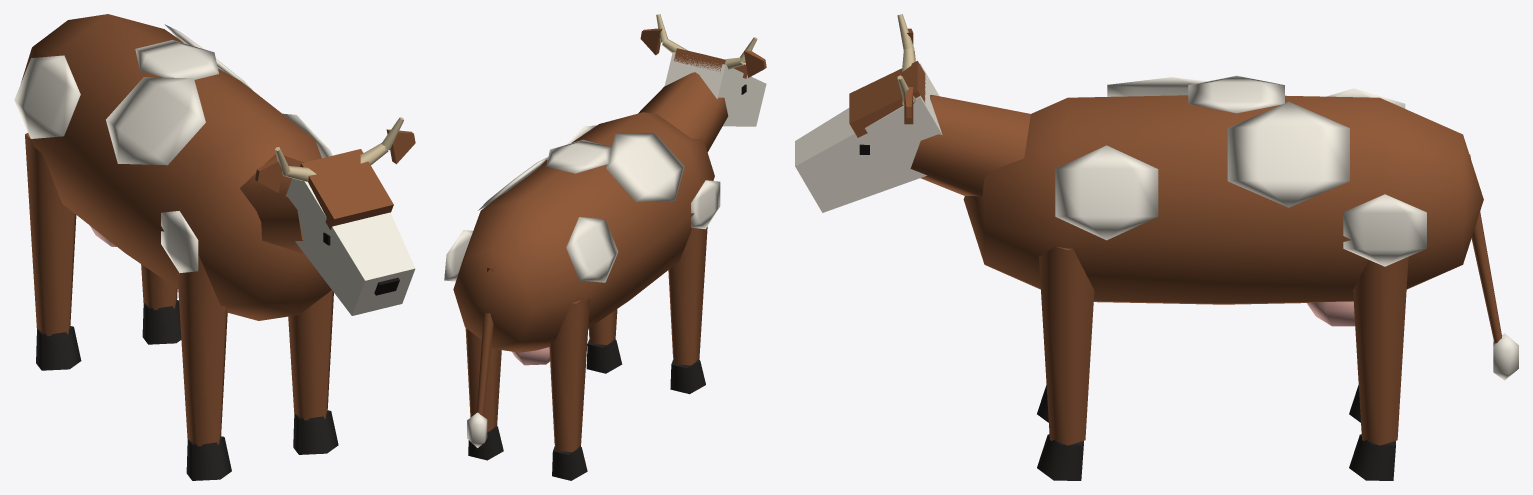
File: sapi.glb
The picture shows the model from 3 angles, left to right: view 1: azimuth 30°, elevation 25°; view 2: azimuth 150°, elevation 25°; view 3: azimuth 270°, elevation 25°; orthographic projection. The views are drawn at different scales.
Parts seen in each view (by area): view 1: body, head, leg_fr, leg_rr, leg_fl, leg_rl; view 2: body, leg_rr, head, leg_fr, leg_rl, leg_fl, tail; view 3: body, head, leg_fl, leg_rl, tail.
Boxes of the visible parts, x1,y1,x2,y2 form: body: [14, 14, 332, 320]; head: [255, 117, 415, 315]; leg_fr: [177, 256, 231, 480]; leg_rr: [25, 133, 81, 370]; leg_fl: [288, 290, 338, 454]; leg_rl: [141, 264, 181, 344]; body: [444, 72, 728, 365]; leg_rr: [549, 299, 589, 480]; head: [640, 14, 766, 126]; leg_fr: [668, 226, 707, 394]; leg_rl: [465, 328, 503, 460]; leg_fl: [586, 309, 622, 373]; tail: [467, 267, 494, 447]; body: [910, 75, 1483, 326]; head: [795, 14, 942, 212]; leg_fl: [1037, 246, 1094, 480]; leg_rl: [1349, 257, 1408, 480]; tail: [1469, 154, 1518, 380].
Bounding box in the file's own units: 0.7327 × 1.5 × 2.43.
